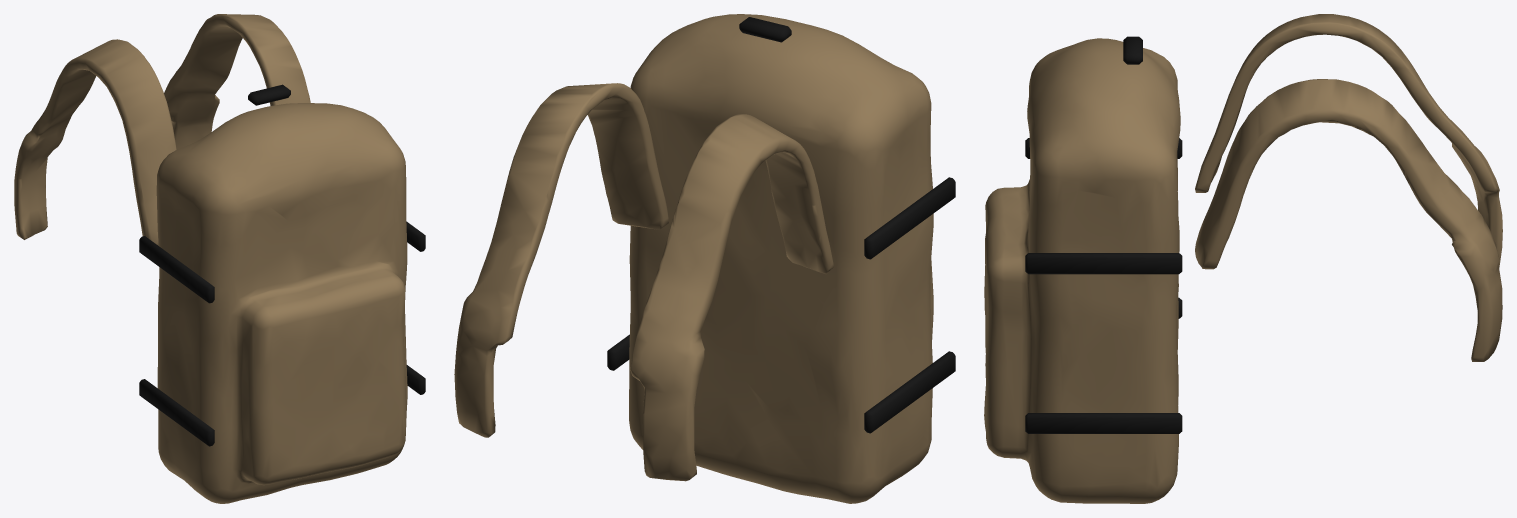
File: pack_assault.glb
The picture shows the model from 3 angles, left to right: view 1: azimuth 30°, elevation 25°; view 2: azimuth 150°, elevation 25°; view 3: azimuth 270°, elevation 25°; orthographic projection. The views are drawn at different scales.
Visible parts, largest first — view 1: pack_assault_LOD0; view 2: pack_assault_LOD0; view 3: pack_assault_LOD0.
Boxes of the visible parts, x1,y1,x2,y2 form: pack_assault_LOD0: [14, 14, 425, 503]; pack_assault_LOD0: [454, 14, 955, 503]; pack_assault_LOD0: [984, 14, 1502, 503].
Size of what is drawn, in the model's own units: 0.288 by 0.4688 by 0.5292.
